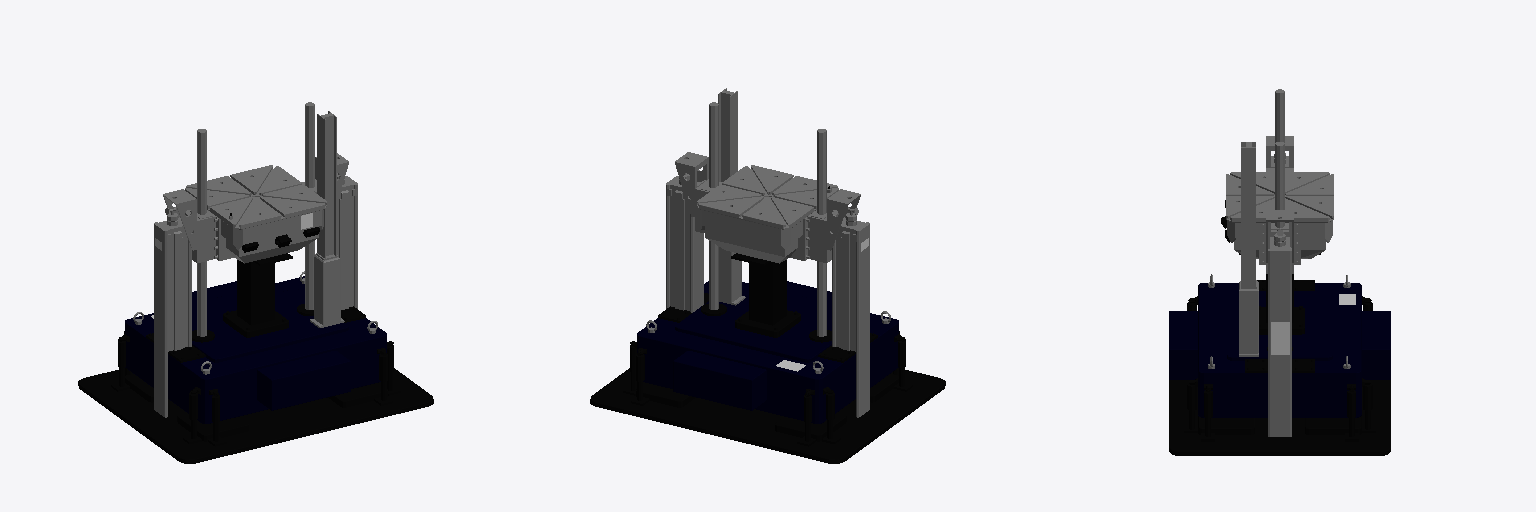
Rendered from 12CJT.obj.
3 renders of one model, left to right at view 1: azimuth 30°, elevation 25°; view 2: azimuth 150°, elevation 25°; view 3: azimuth 270°, elevation 25°, orthographic.
Visible parts, largest first — view 1: Matel_03, Matel_05, Matel_Blue; view 2: Matel_03, Matel_05, Matel_Blue; view 3: Matel_Blue, Matel_03, Matel_05, tex.
Part boxes in pixels (bbox=[...]): Matel_03: bbox=[133, 102, 377, 417]; Matel_05: bbox=[78, 213, 433, 463]; Matel_Blue: bbox=[125, 276, 386, 423]; Matel_03: bbox=[646, 88, 890, 417]; Matel_05: bbox=[590, 186, 945, 463]; Matel_Blue: bbox=[637, 281, 898, 423]; Matel_Blue: bbox=[1169, 283, 1390, 417]; Matel_03: bbox=[1208, 89, 1350, 436]; Matel_05: bbox=[1169, 200, 1390, 455]; tex: bbox=[1271, 294, 1355, 354].
Bounding box in the file's own units: 57.79 × 60.34 × 43.99.